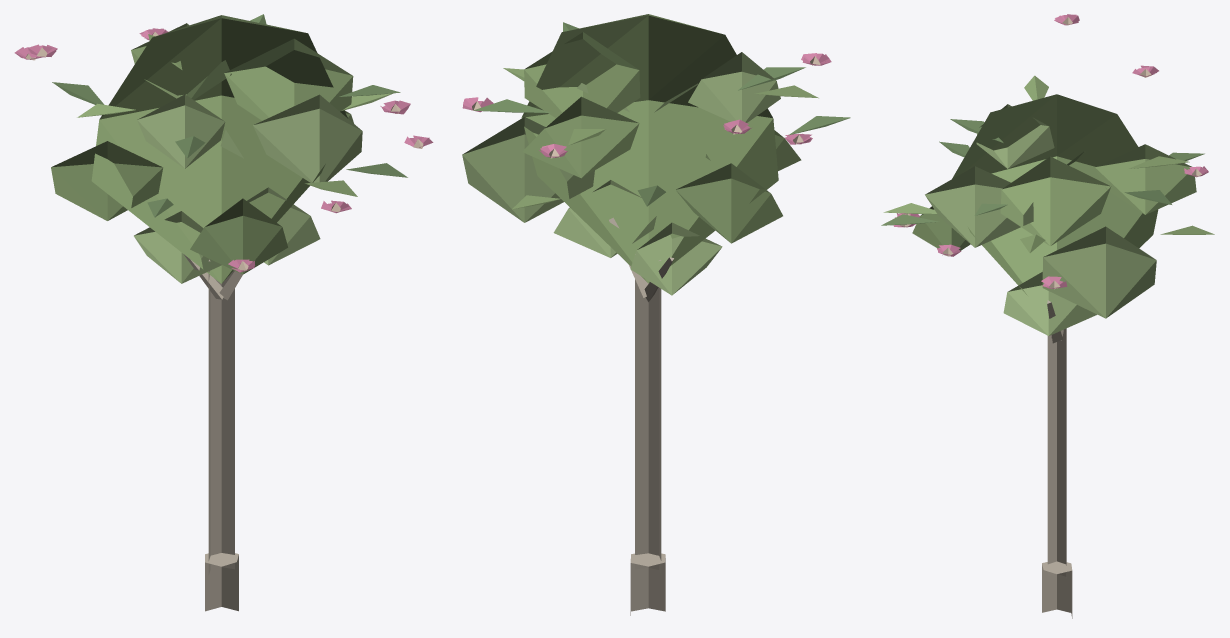
The model's file is shu.baigan@flowering__summer.glb.
3 views of the same model, side by side, from view 1: azimuth 30°, elevation 25°; view 2: azimuth 150°, elevation 25°; view 3: azimuth 270°, elevation 25° (orthographic). The views are drawn at different scales.
Visible parts, largest first — view 1: shu.baigan@flowering__summer; view 2: shu.baigan@flowering__summer; view 3: shu.baigan@flowering__summer.
Boxes of the visible parts, x1,y1,x2,y2 form: shu.baigan@flowering__summer: (14,14,433,611); shu.baigan@flowering__summer: (462,14,850,615); shu.baigan@flowering__summer: (881,14,1214,618).
Size of the model in its own units: 9.82 by 15.24 by 8.8.
